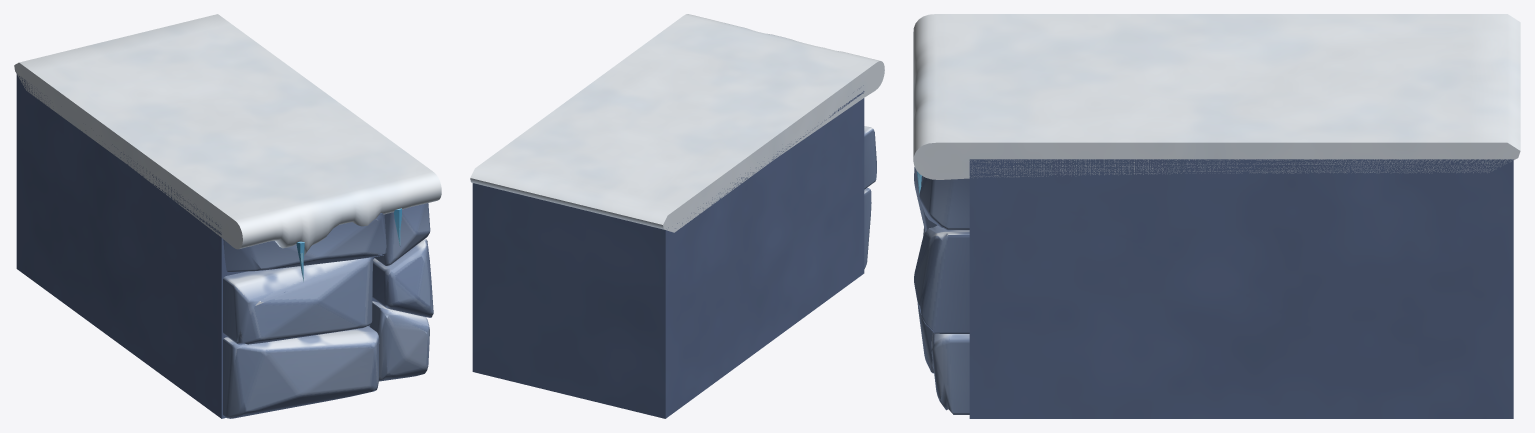
The model's file is FP_T01_SnowCliffCore.fbx.
3 views of the same model, side by side, from view 1: azimuth 30°, elevation 25°; view 2: azimuth 150°, elevation 25°; view 3: azimuth 270°, elevation 25° (orthographic). The views are drawn at different scales.
Parts seen in each view (by area): view 1: Rock, SnowCap; view 2: Rock, SnowCap; view 3: Rock, SnowCap.
Part boxes in pixels (left/top/right/bottom): Rock: left=16, top=73, right=433, bottom=418; SnowCap: left=14, top=14, right=441, bottom=281; Rock: left=472, top=85, right=876, bottom=418; SnowCap: left=470, top=14, right=884, bottom=232; Rock: left=914, top=159, right=1513, bottom=418; SnowCap: left=913, top=14, right=1520, bottom=194.
Bounding box in the file's own units: 2 × 2.01 × 3.99.
